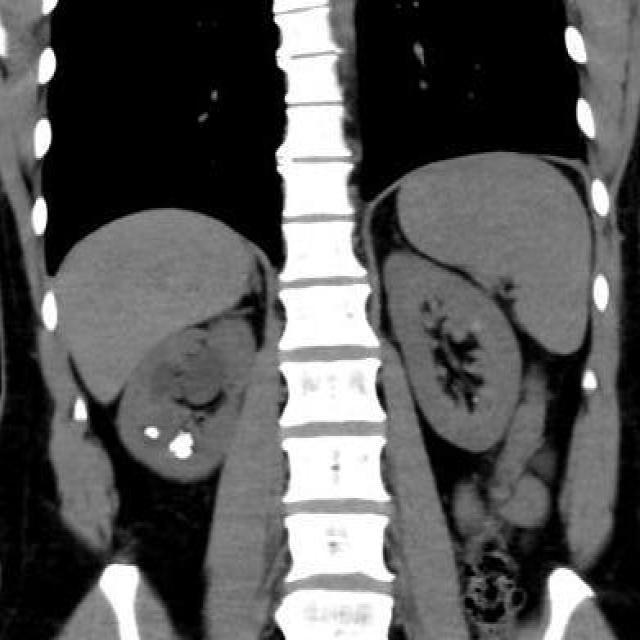Tas_Var: (168, 436, 197, 460), (145, 423, 161, 443), (180, 430, 193, 438), (472, 395, 479, 405)
